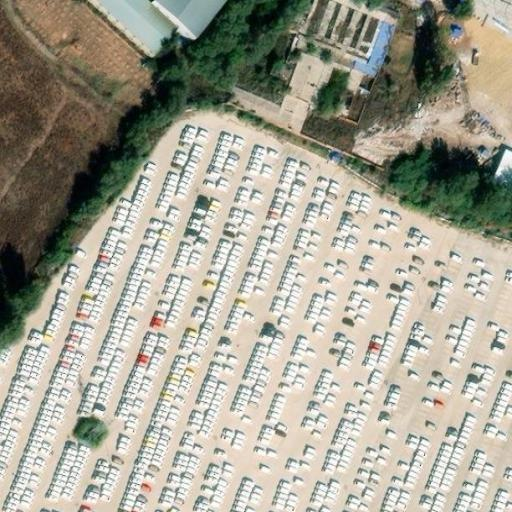building: (221, 88, 307, 137), (283, 54, 332, 111), (464, 0, 512, 31), (484, 152, 512, 202)
